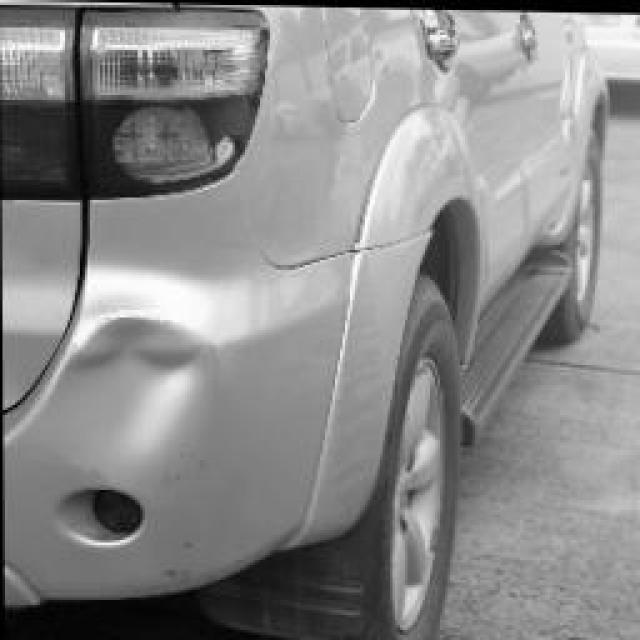Bumper: (58, 278, 241, 491)
